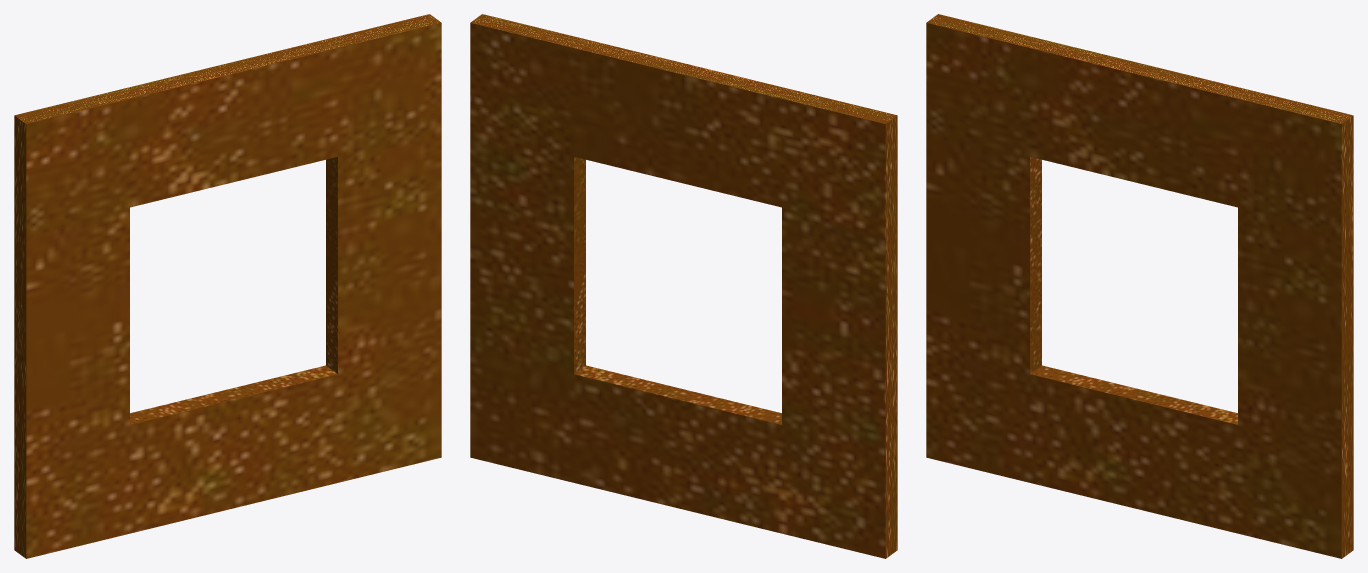
File: window_frame.dae
3 renders of one model, left to right at view 1: azimuth 30°, elevation 25°; view 2: azimuth 150°, elevation 25°; view 3: azimuth 330°, elevation 25°, orthographic.
Visible parts, largest first — view 1: Cube; view 2: Cube; view 3: Cube.
Boxes of the visible parts, x1,y1,x2,y2 form: Cube: (14,14,441,558); Cube: (470,14,897,558); Cube: (926,14,1353,558).
Size of the model in its own units: 2 by 0.1 by 2.
Materials: 1 (1 with a texture image).
